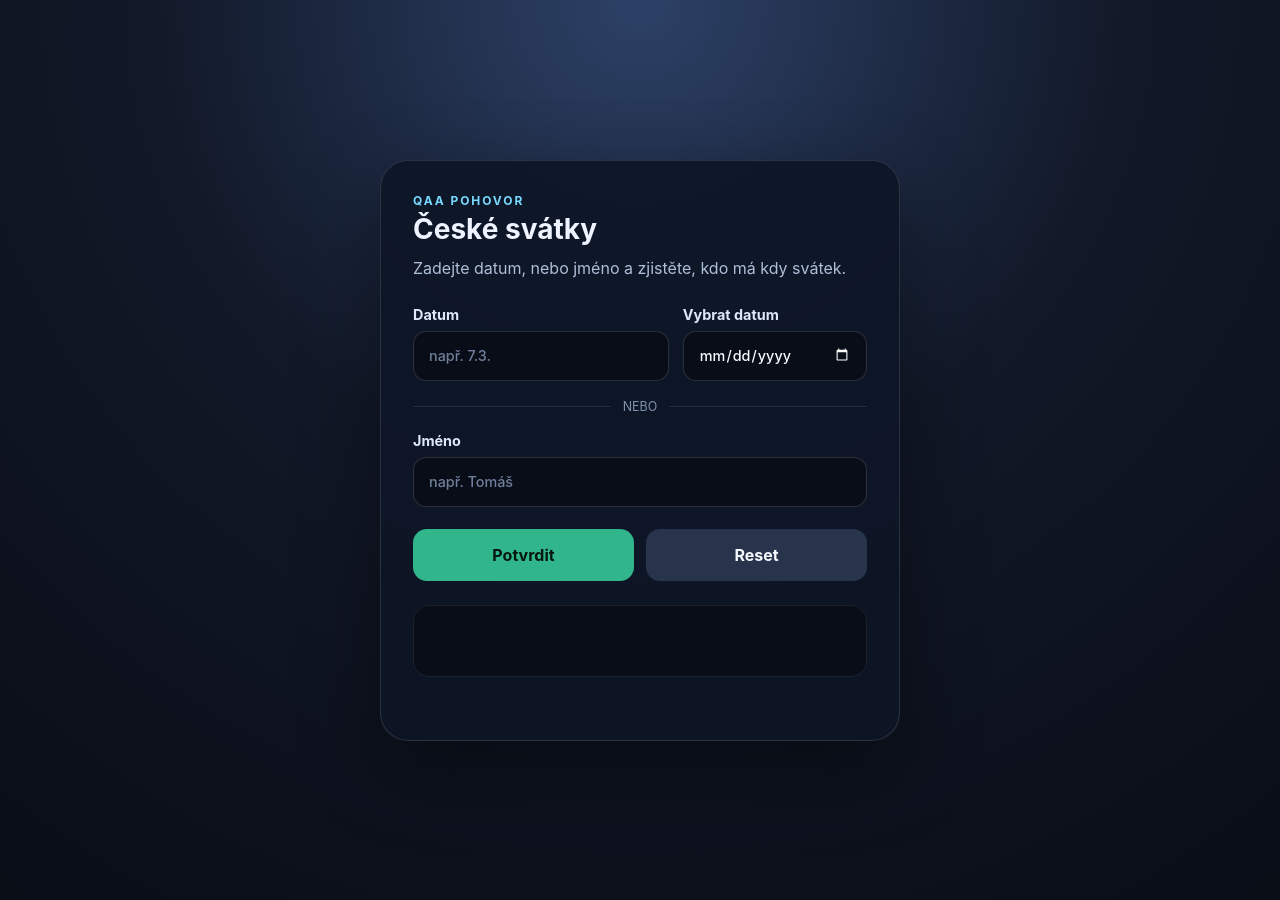
Test: NamedayForm › Rendering the result › renders multiple names joined with 'a'
Type "7.4." into the field with test id "date-input" at coordinates (541, 356), box [413,330,669,380]
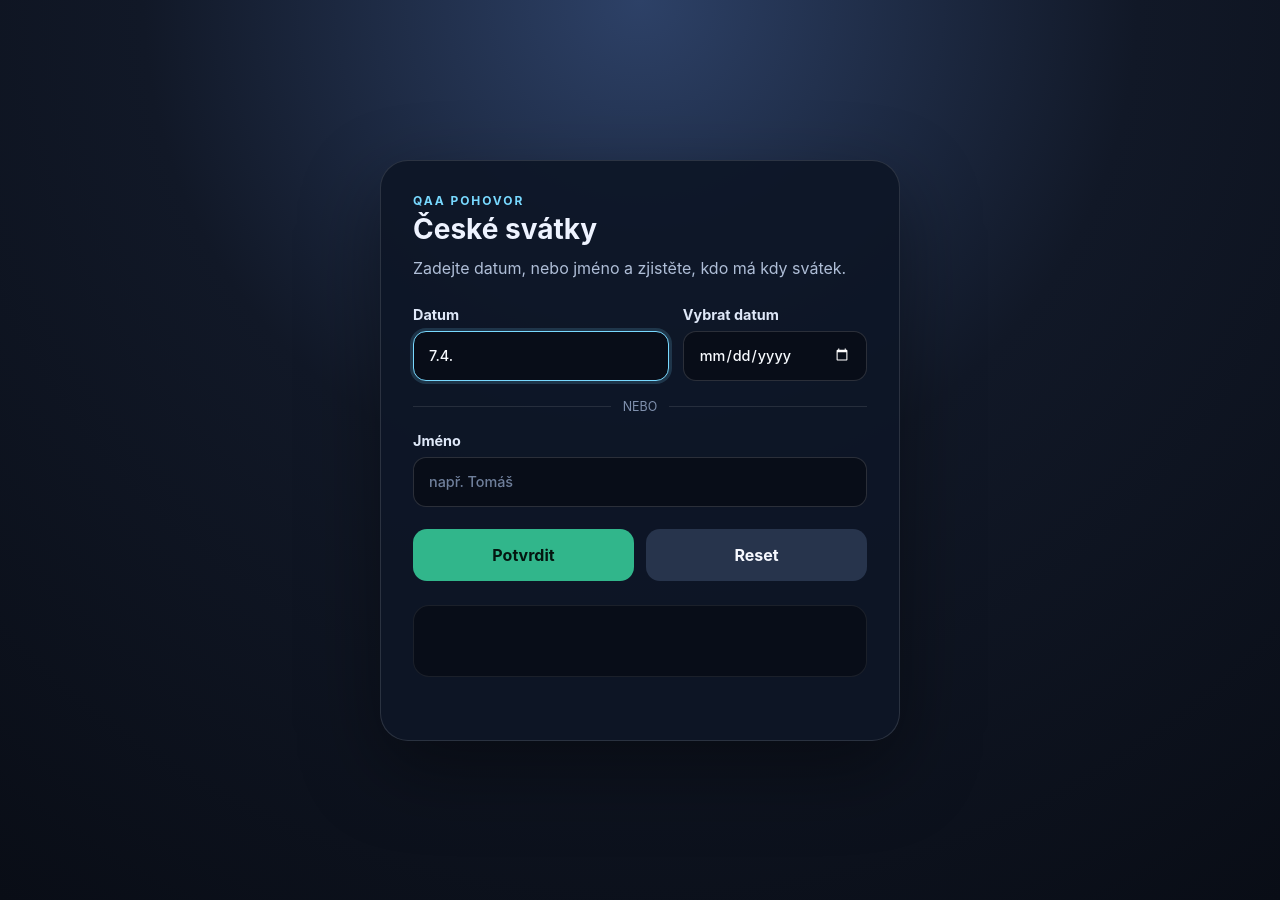
Click the button with test id "confirm" at coordinates (524, 554), box [413,528,634,580]
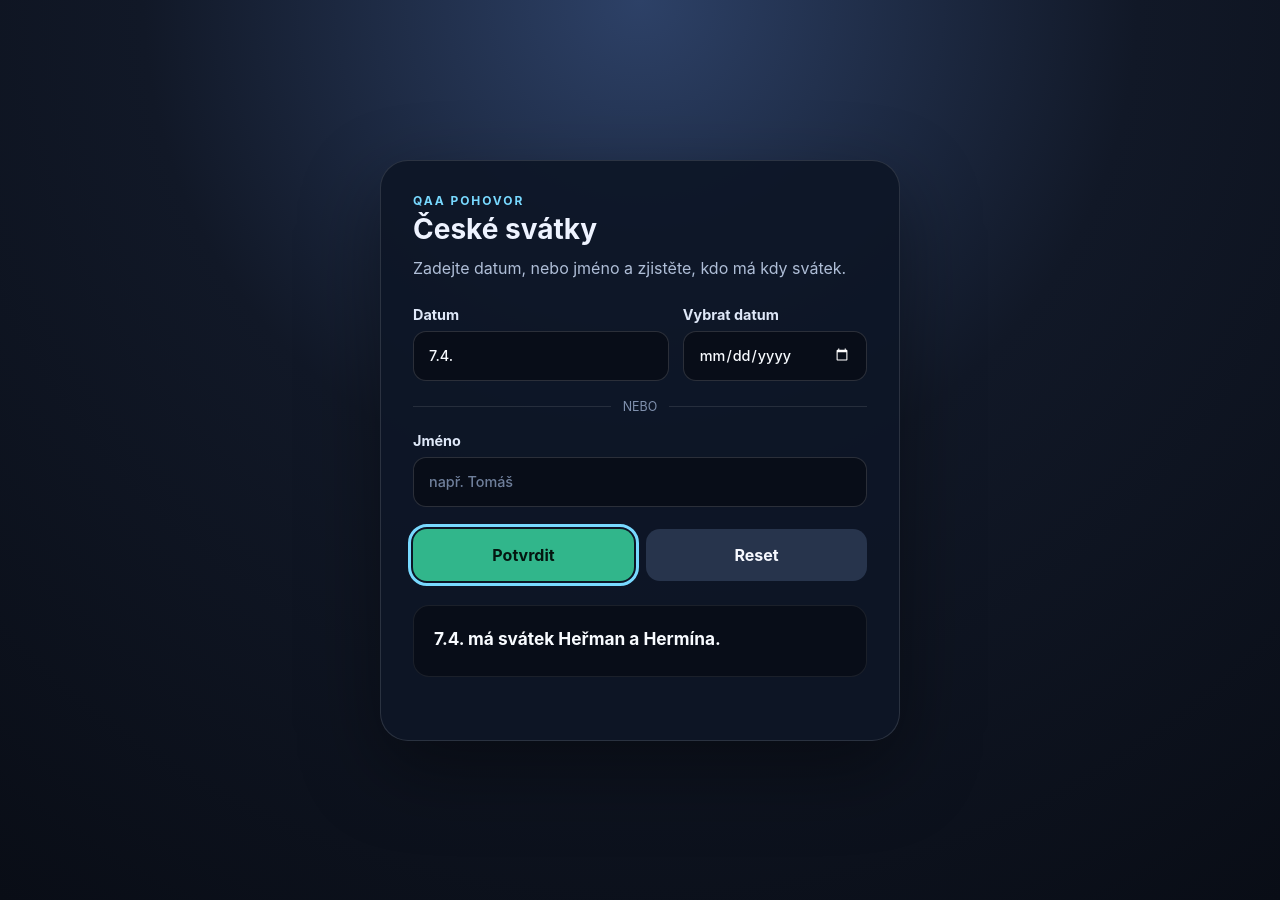
Expected: the text with test id "result" shows "7.4. má svátek Heřman a Hermína", [434,628,721,648]
